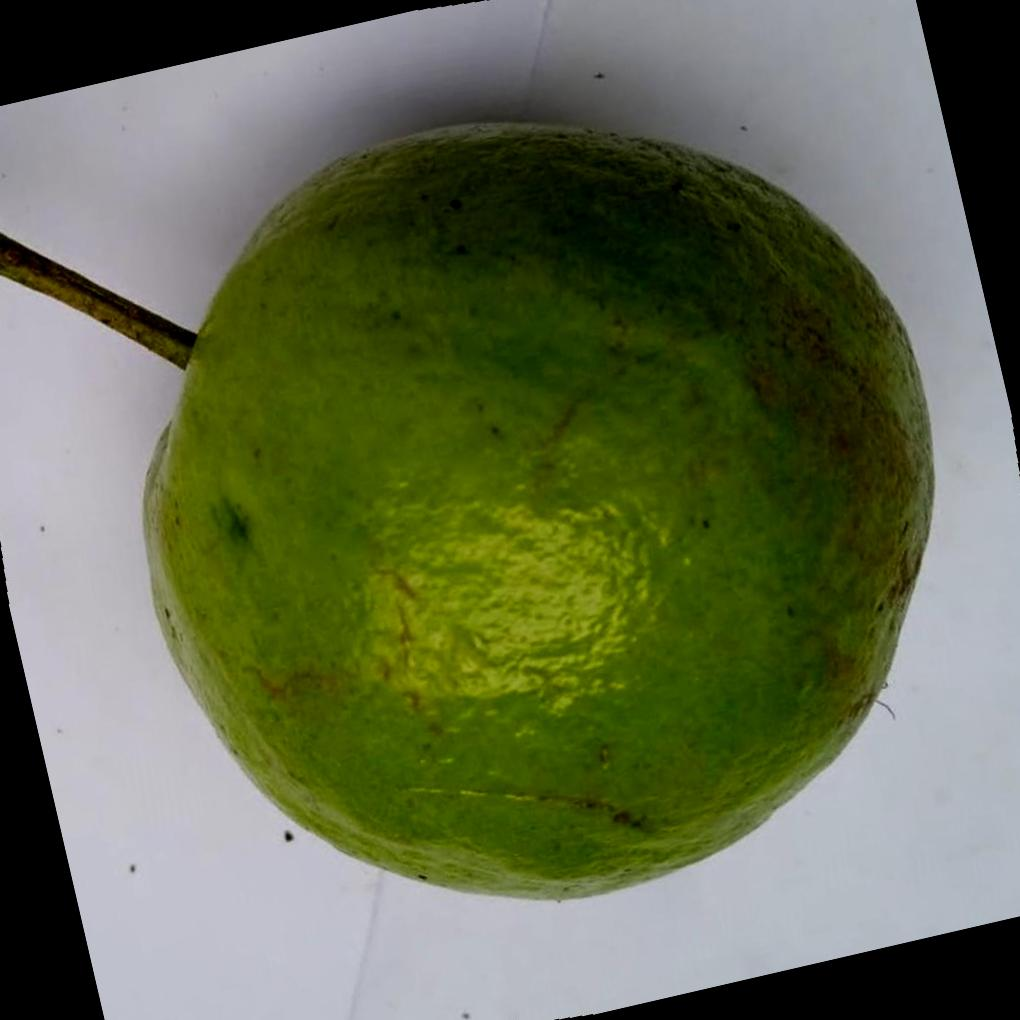FreshGuava: (142, 118, 939, 902)
